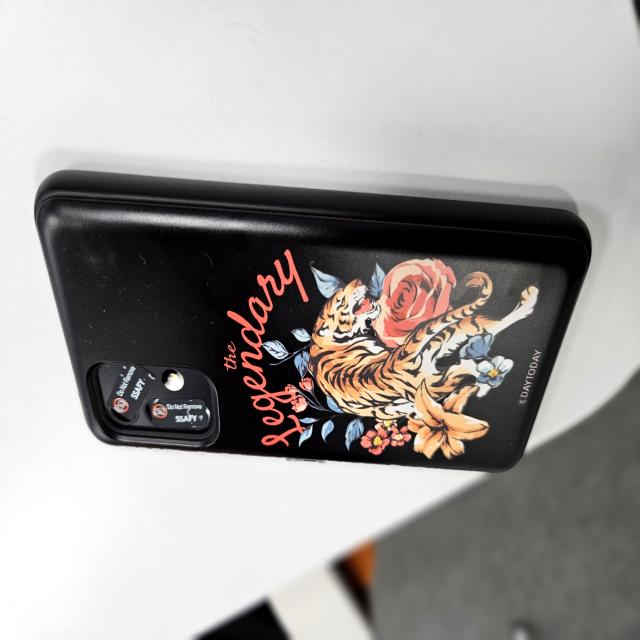phone: (33, 170, 591, 473)
sticker: (106, 361, 154, 422), (147, 396, 210, 432)
